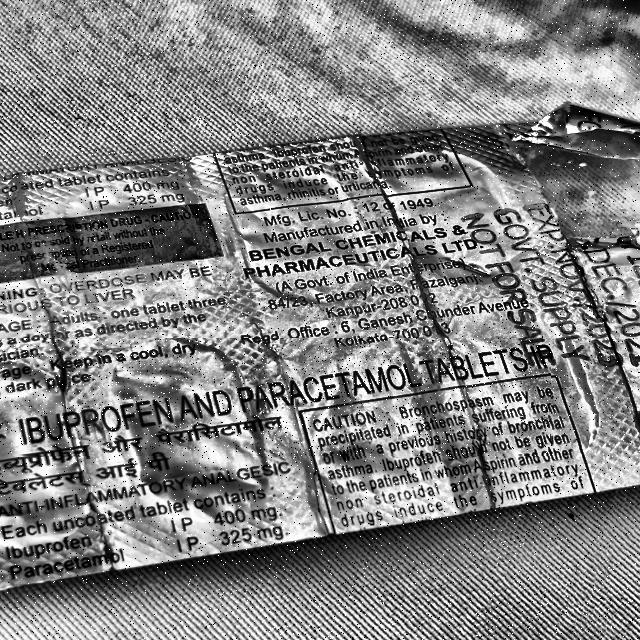IBUPROFEN AND PARACETAMOL TABLETS: (1, 339, 551, 455)
